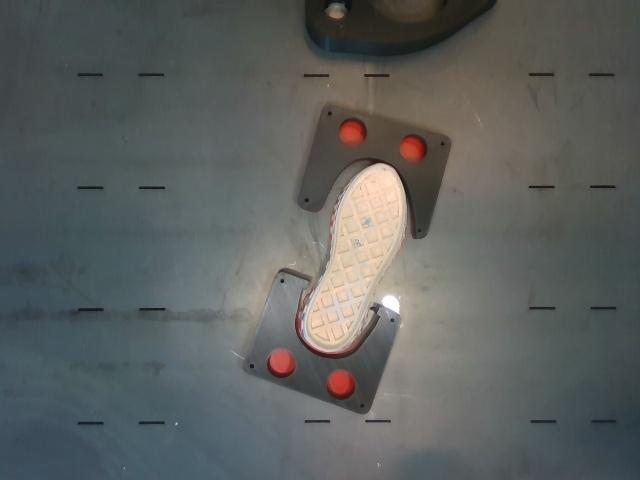shoes: (305, 163, 405, 349)
